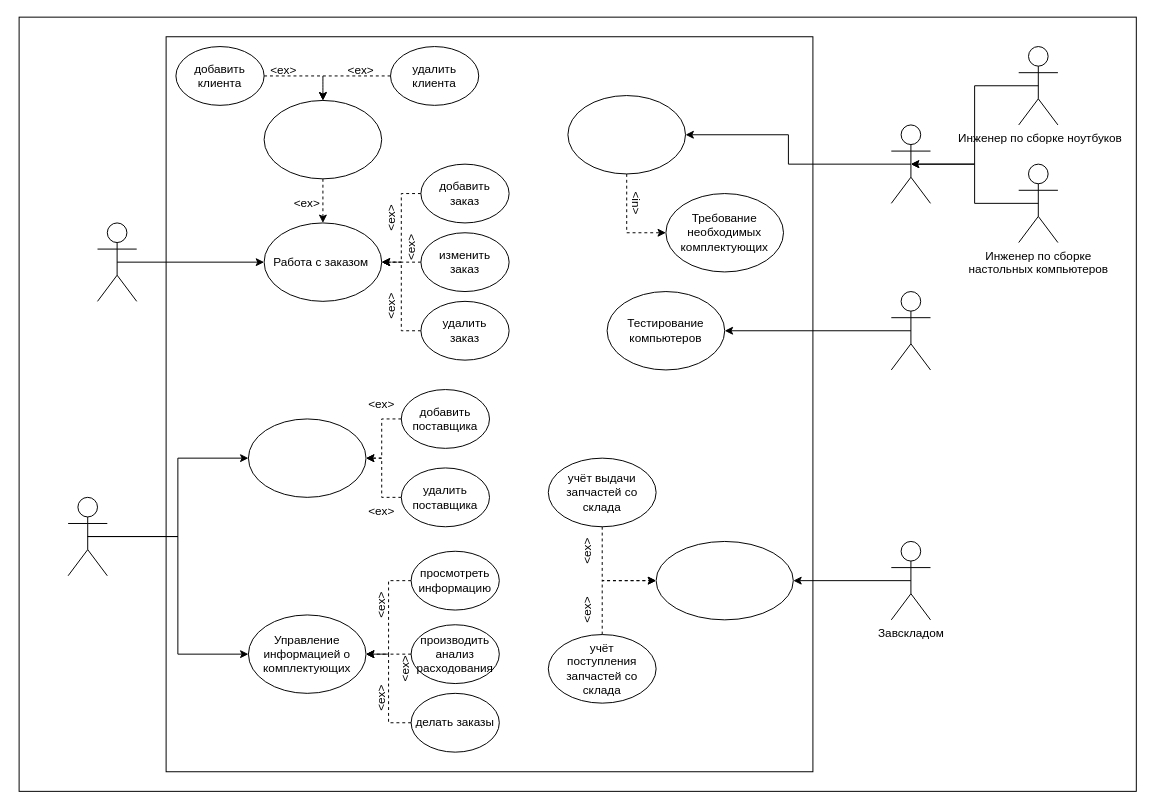
Some shapes in this 1153 by 809 pixel diagram are drawn without their labels. Each missing label, with the centre of its shape:
"Инженер по сборке" goes at [910,163].
"Инженер по тестированию" goes at [910,330].
"Менедж.по работе с клиентами" goes at [117,261].
"Менеджер по снабжению" goes at [87,536].
"Сборка компьютеров" goes at [626,134].
"Управление информацией о клиенте" goes at [322,139].
"Управление информацией о поставщиках" goes at [306,457].
"Учет поступления и выдачи комплектующих" goes at [724,580].
